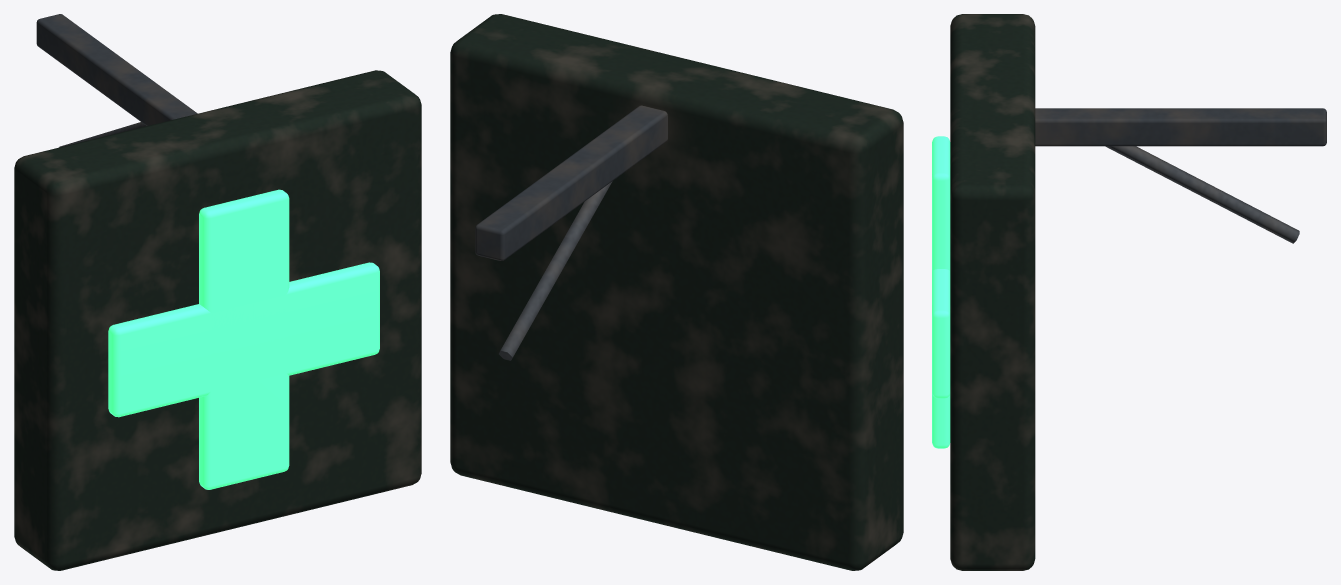
Rendered from sklep_krzyz.glb.
3 renders of one model, left to right at view 1: azimuth 30°, elevation 25°; view 2: azimuth 150°, elevation 25°; view 3: azimuth 270°, elevation 25°, orthographic. The views are drawn at different scales.
Visible parts, largest first — view 1: Krzyz, Swiatlo; view 2: Krzyz; view 3: Krzyz, Swiatlo.
Part boxes in pixels (x1,y1,x2,y2): Krzyz: (14,14,421,570); Swiatlo: (108,189,379,489); Krzyz: (450,14,903,570); Krzyz: (950,14,1326,570); Swiatlo: (932,136,950,448).
Size of the model in its own units: 0.7 by 0.7 by 0.65.
Materials: 2 (1 with a texture image).
